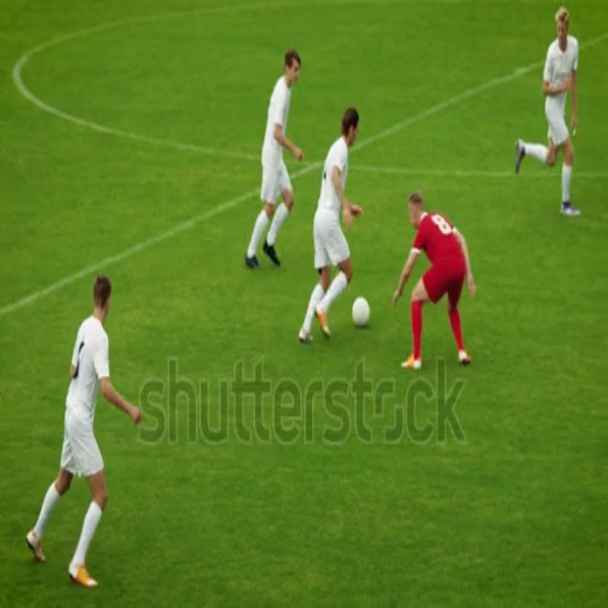ball: (354, 295, 369, 329)
